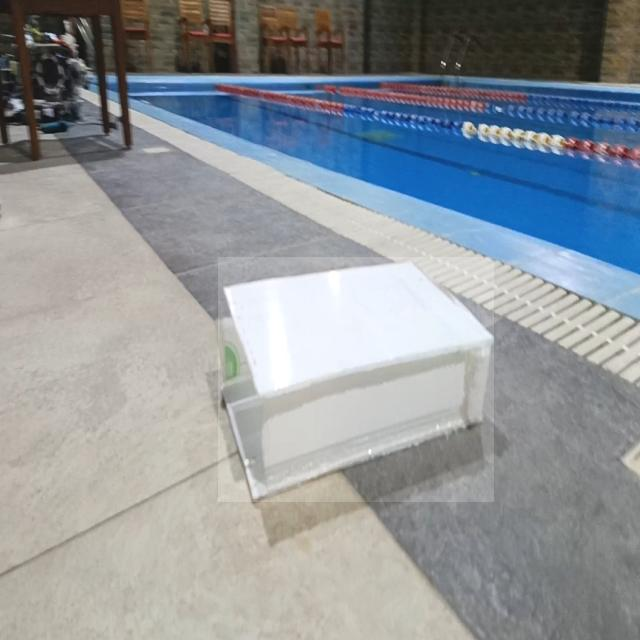Cuboid: (218, 257, 494, 502)
